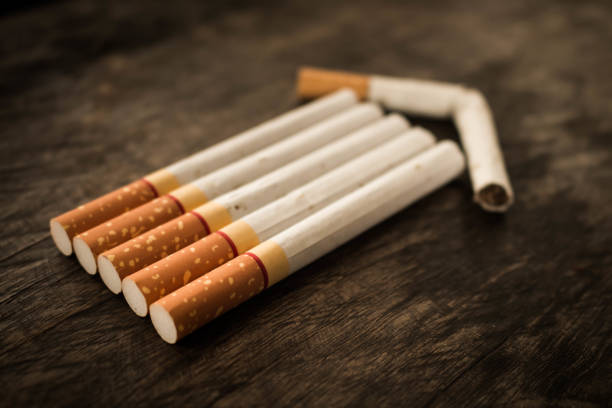cigarette: (147, 139, 467, 346), (121, 125, 437, 318), (97, 112, 410, 295), (73, 102, 383, 275), (48, 85, 359, 257), (294, 65, 511, 117), (451, 88, 515, 213)
